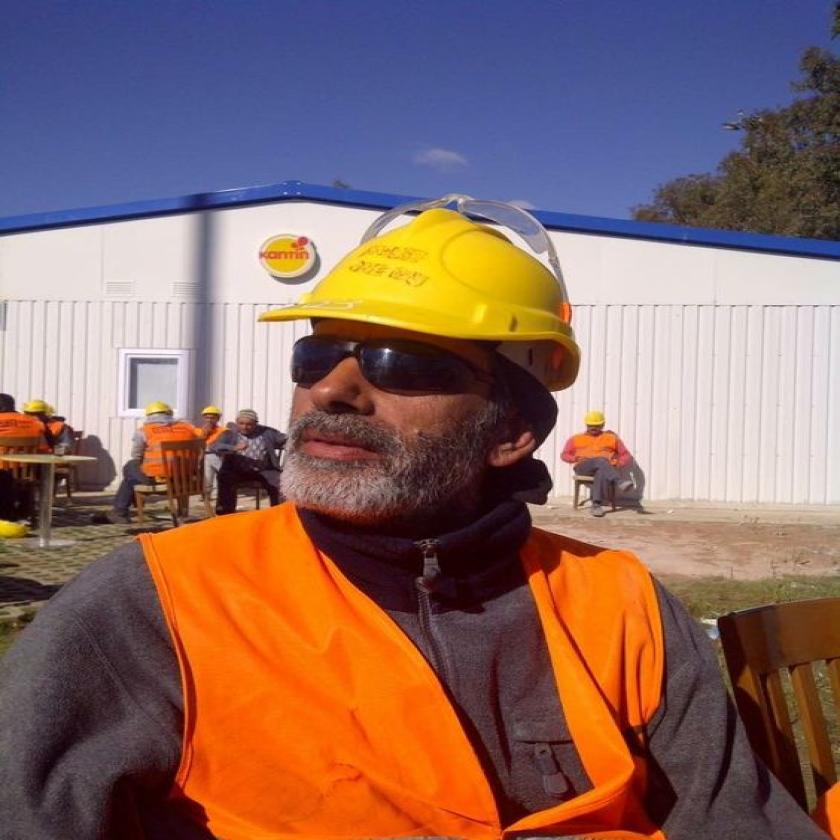Con_casco: (246, 177, 578, 535), (191, 395, 230, 439), (578, 404, 611, 439)
Sin_casco: (234, 406, 264, 438)
